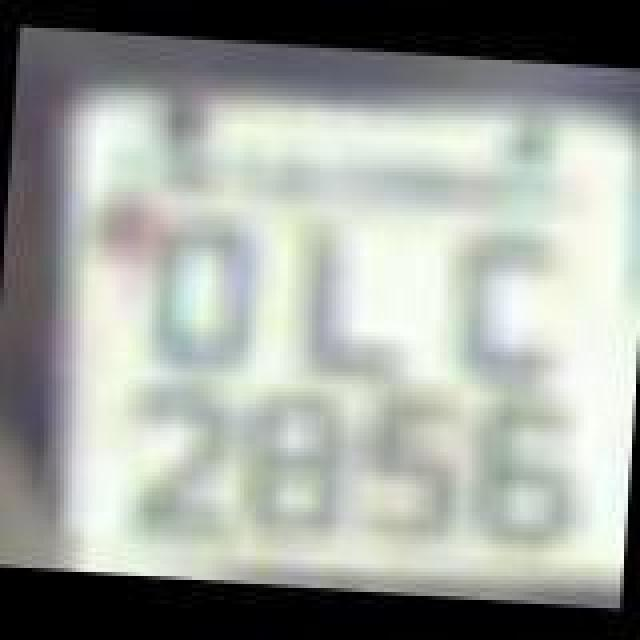2: (122, 372, 246, 556)
5: (358, 388, 474, 556)
6: (472, 390, 584, 562)
8: (238, 376, 354, 552)
C: (450, 228, 574, 396)
L: (294, 210, 426, 382)
O: (148, 216, 268, 376)
